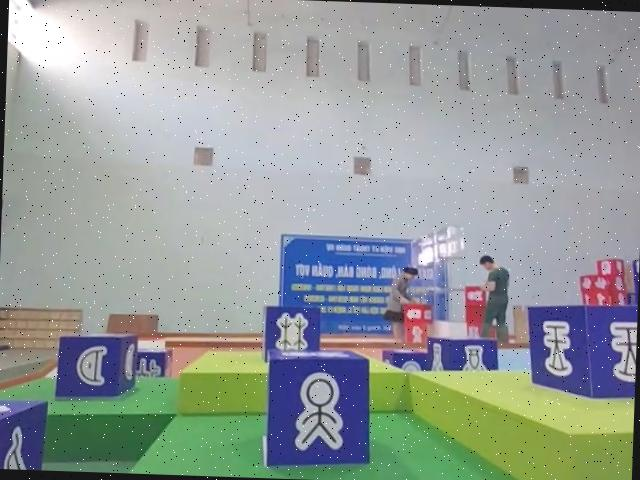R2 Real Blue: (263, 348, 374, 473), (525, 301, 638, 403), (53, 329, 138, 400), (259, 305, 319, 366), (0, 399, 50, 470), (423, 335, 495, 373), (135, 345, 176, 376)
